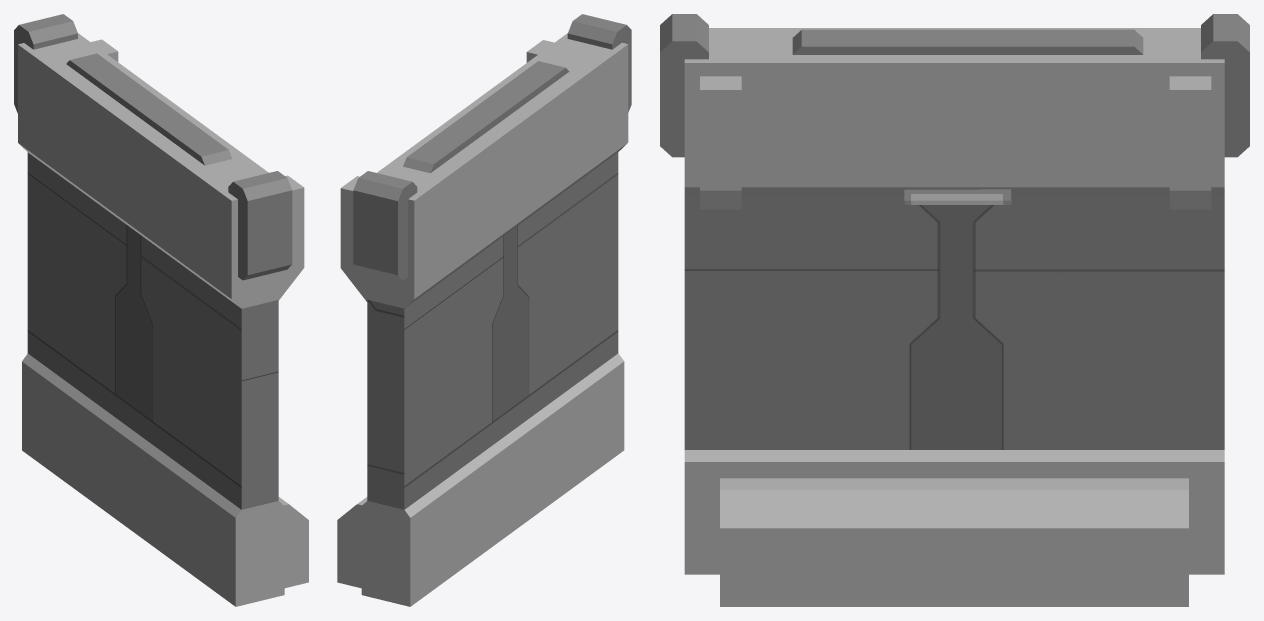
Rendered from SM_Wall_2x2_1.fbx.
3 renders of one model, left to right at view 1: azimuth 30°, elevation 25°; view 2: azimuth 150°, elevation 25°; view 3: azimuth 270°, elevation 25°, orthographic. The views are drawn at different scales.
Parts seen in each view (by area): view 1: SM_Wall_2x2_1; view 2: SM_Wall_2x2_1; view 3: SM_Wall_2x2_1.
Part boxes in pixels (bbox=[...]): SM_Wall_2x2_1: bbox=[14, 14, 308, 606]; SM_Wall_2x2_1: bbox=[337, 14, 631, 606]; SM_Wall_2x2_1: bbox=[660, 14, 1249, 606].
Bounding box in the file's own units: 49.24 × 221 × 218.
